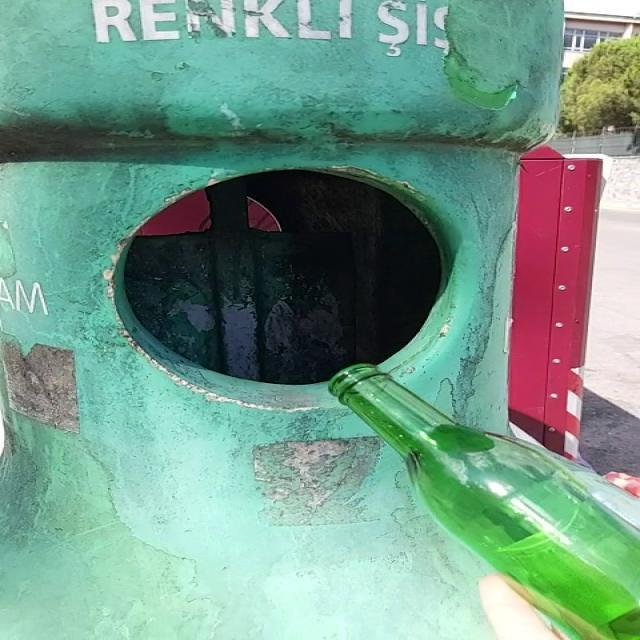Glass: (331, 364, 640, 640)
